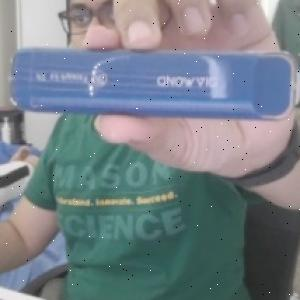Diamond-E-Ciggirate: (8, 45, 300, 122)
